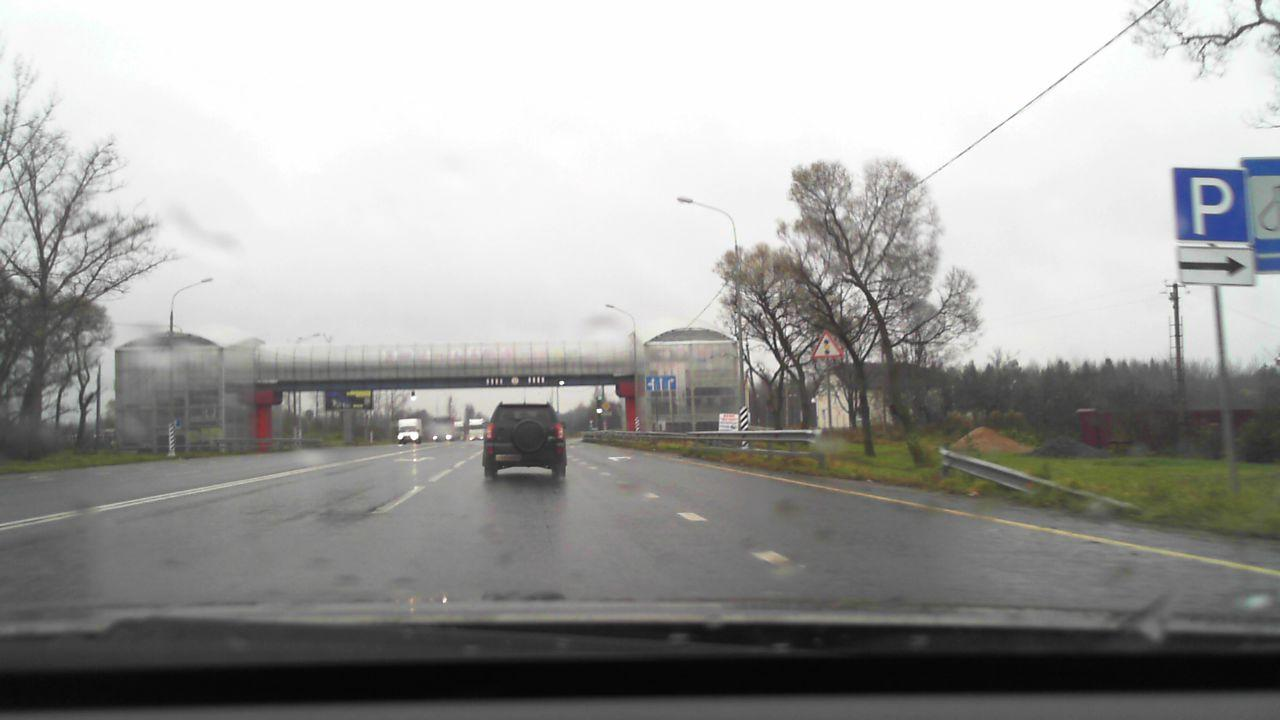1_8: (813, 332, 842, 359)
5_15_1: (642, 374, 683, 396)
6_4: (1174, 164, 1255, 242)
8_3_1: (1176, 249, 1257, 285)
